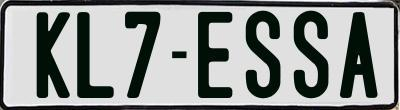7: (122, 12, 162, 102)
A: (340, 11, 378, 99)
E: (197, 12, 234, 100)
K: (36, 12, 69, 100)
L: (75, 9, 118, 100)
S: (293, 11, 332, 104), (245, 10, 280, 97)
